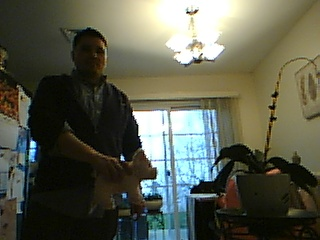piggy: (91, 147, 157, 209)
